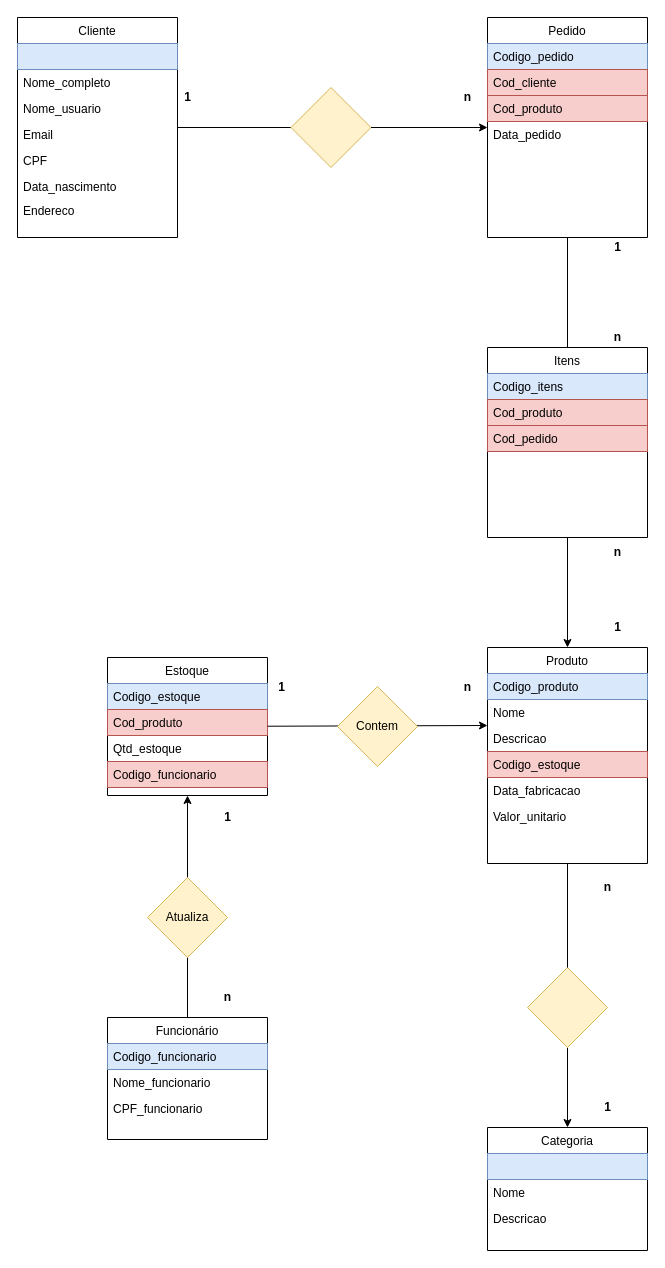
The diagram is 665 pixels wide and 1268 high, and some of its shapes have lost their labels. Here are the shapes that lost their labels. From the top down, the centre of each, then its label:
the point at 97,56: Codigo_cliente
the point at 330,127: Efetua
the point at 567,1007: Pertence
the point at 567,1166: Codigo_categoria
